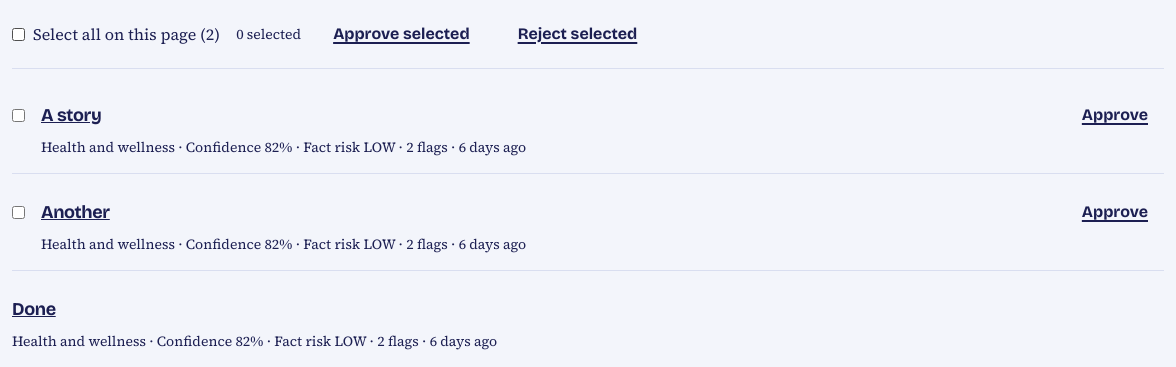
Test case: QueueTable › selects all stories on the page and enables the bulk buttons
Expected: the button "Approve selected" is disabled, top-left (317, 12), bottom-right (486, 56)
What coordinates should you click on to do the following:
click the checkbox labelled "Select all on this page (2)"
I would click on:
 (18, 34)
Its box is top-left (12, 28), bottom-right (25, 40).
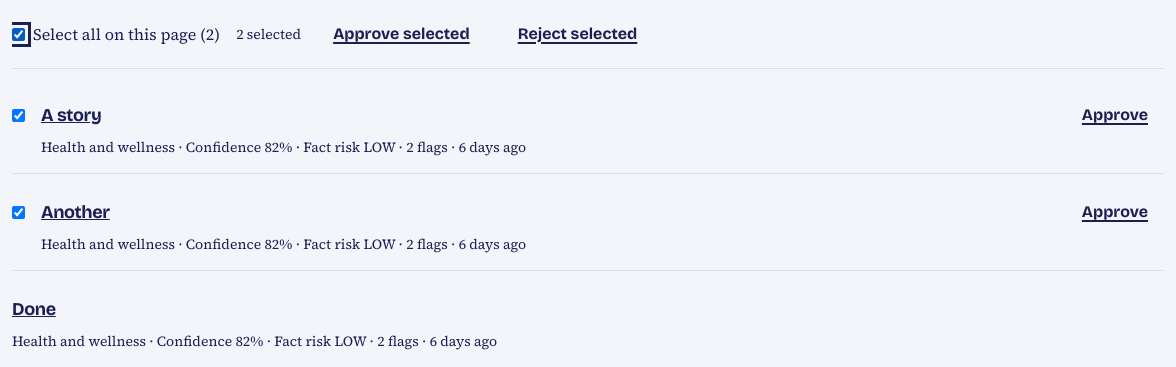
Expected: the button "Approve selected" is enabled, top-left (317, 12), bottom-right (486, 56)
Now the text "2 selected" is shown, box top-left (236, 24), bottom-right (301, 44)
